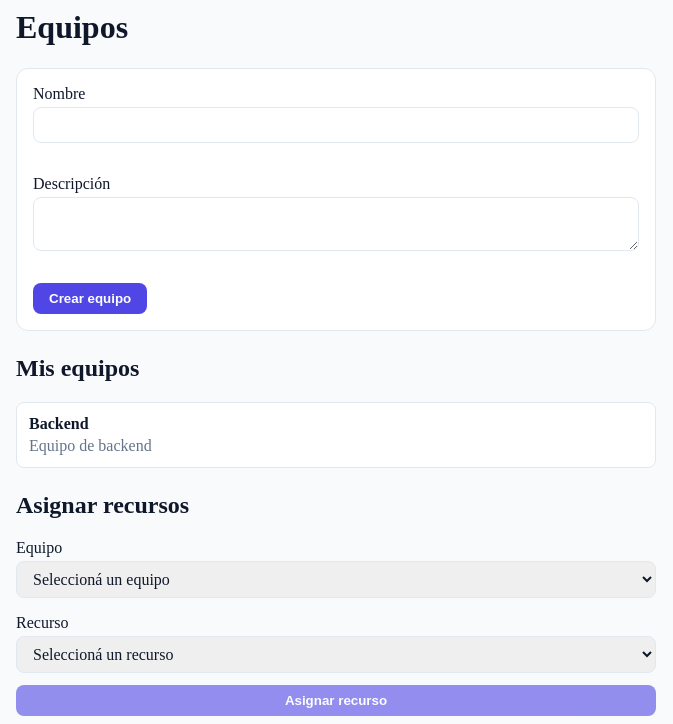
LeaderTeamsPage › si la API responde 409 al asignar, el mensaje se muestra en pantalla y la lista de recursos se refresca
The image size is (673, 724).
Select "Backend" in the dropdown labelled "Equipo" at point(336, 579), box [16,561,656,598]
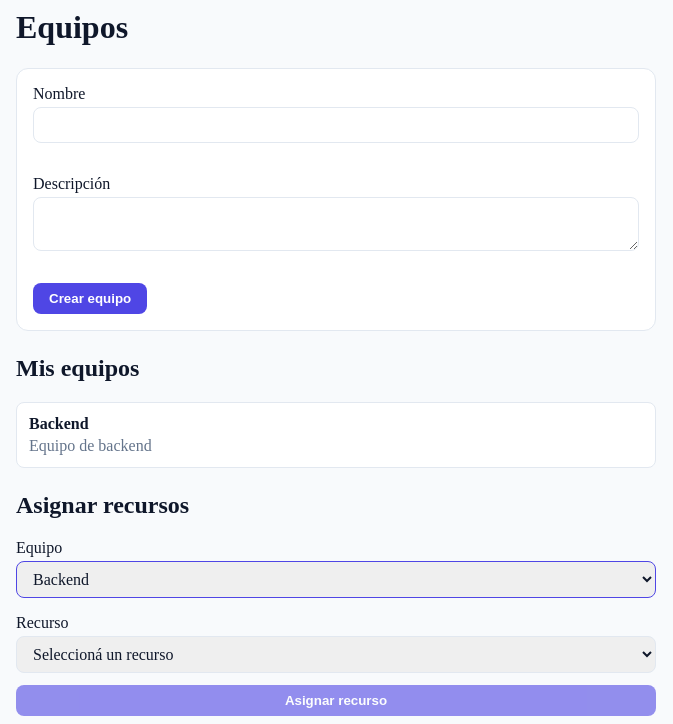
Select "Recurso Uno (recurso@tabsum.com)" in the dropdown labelled "Recurso" at point(336, 654), box [16,636,656,673]
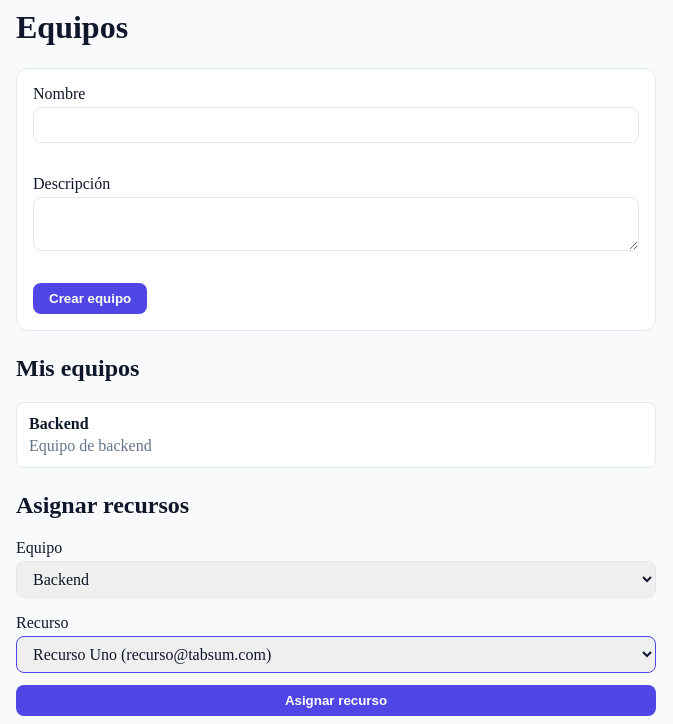
Click the button "Asignar recurso".
click(336, 700)  # box [16,685,656,716]
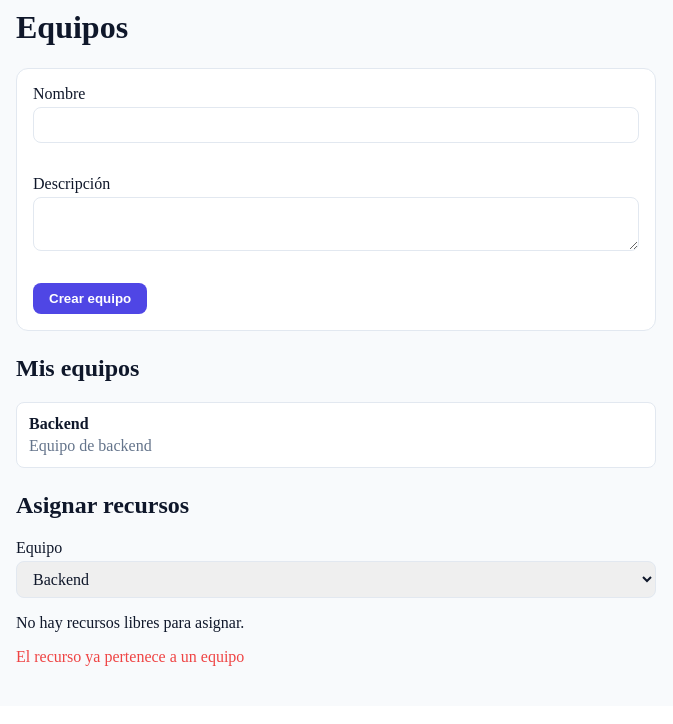
Now the message reads "El recurso ya pertenece a un equipo", box [16,648,244,665]
Now the text "No hay recursos libres para asignar." is shown, box [16,614,244,631]
